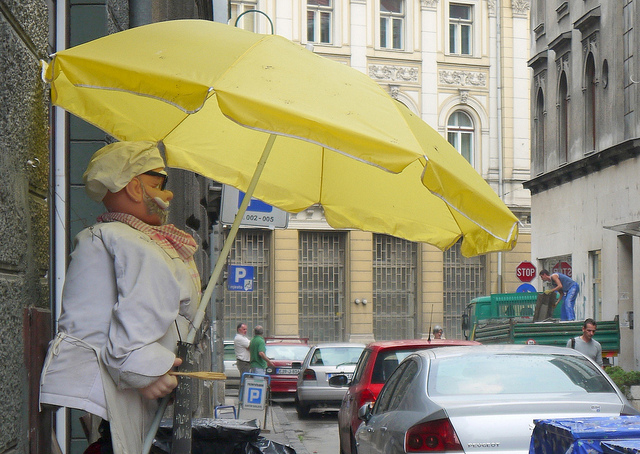Car: (350, 348, 637, 451)
Stop: (511, 259, 541, 283)
